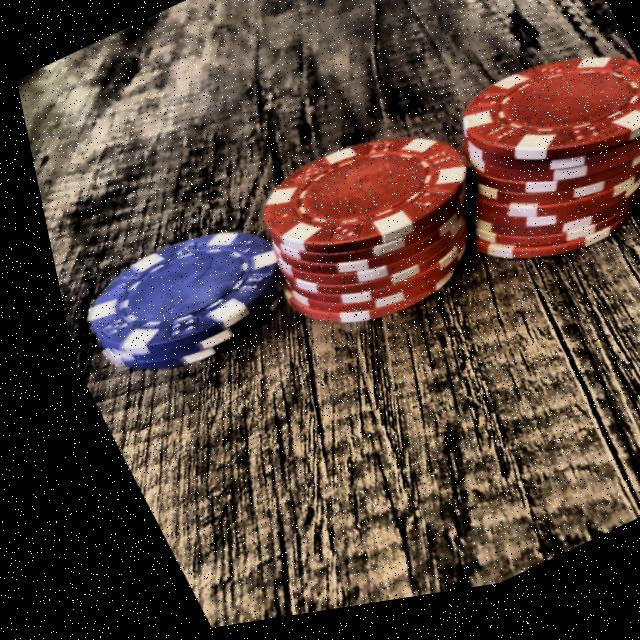Chip: (211, 109, 511, 367), (390, 37, 640, 311), (42, 205, 302, 405)
